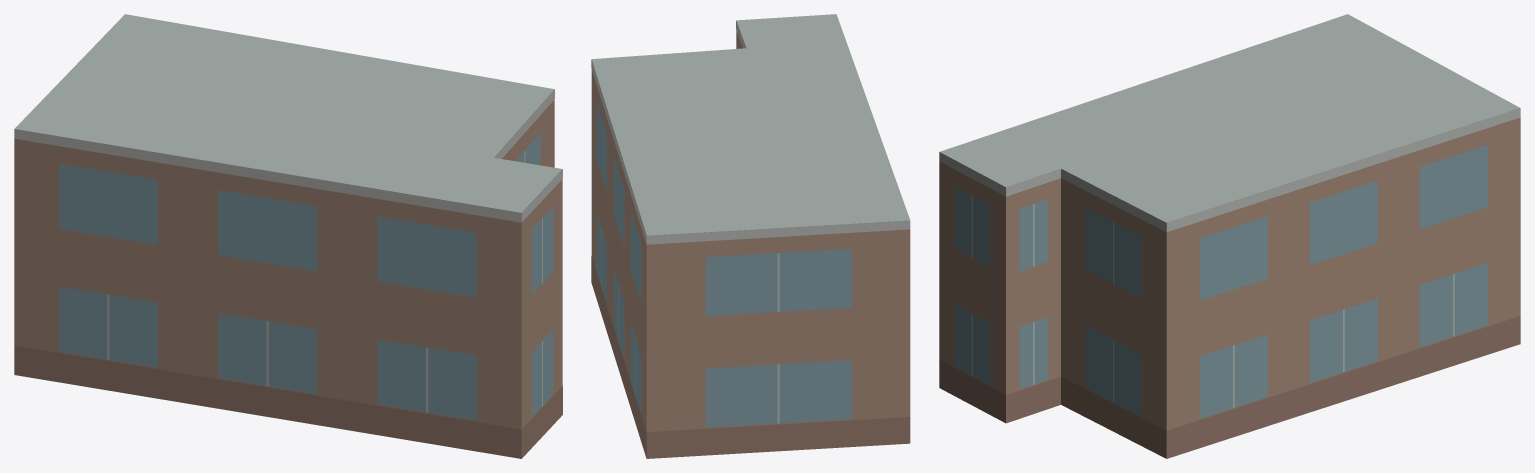
File: survey-upis-32541583.glb
3 renders of one model, left to right at view 1: azimuth 30°, elevation 25°; view 2: azimuth 150°, elevation 25°; view 3: azimuth 270°, elevation 25°, orthographic. The views are drawn at different scales.
Visible parts, largest first — view 1: survey-upis-32541583.tmp; view 2: survey-upis-32541583.tmp; view 3: survey-upis-32541583.tmp.
Part boxes in pixels (x1,y1,x2,y2): survey-upis-32541583.tmp: [14, 14, 562, 458]; survey-upis-32541583.tmp: [591, 14, 910, 458]; survey-upis-32541583.tmp: [939, 14, 1520, 458].
Size of the model in its own units: 11.59 by 6.1 by 13.62.
